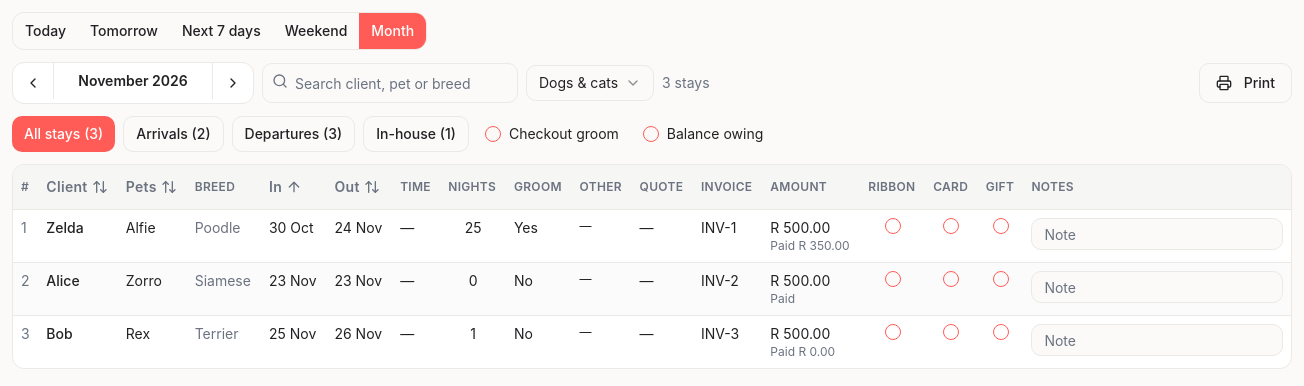
Test: tomorrow includes the earlier-month departure only when checkout is tomorrow
expect the link "Zelda" is shown: met, box [46,219,84,236]
Click the button "Tomorrow" at point(124, 31), box [78,13,170,49]
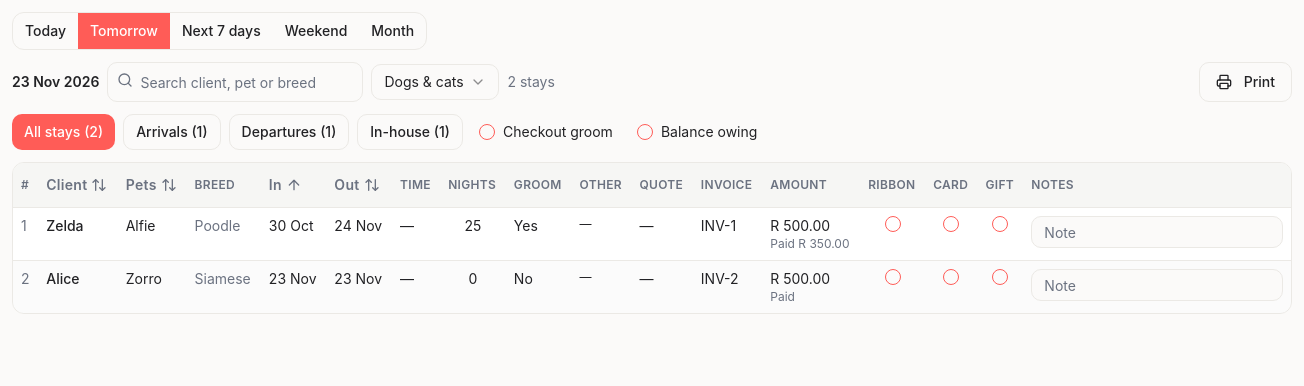
expect the link "Alice" is shown: met, box [46,270,80,287]
Click the button "Departures (1)" at point(289, 132), box [229,114,349,150]
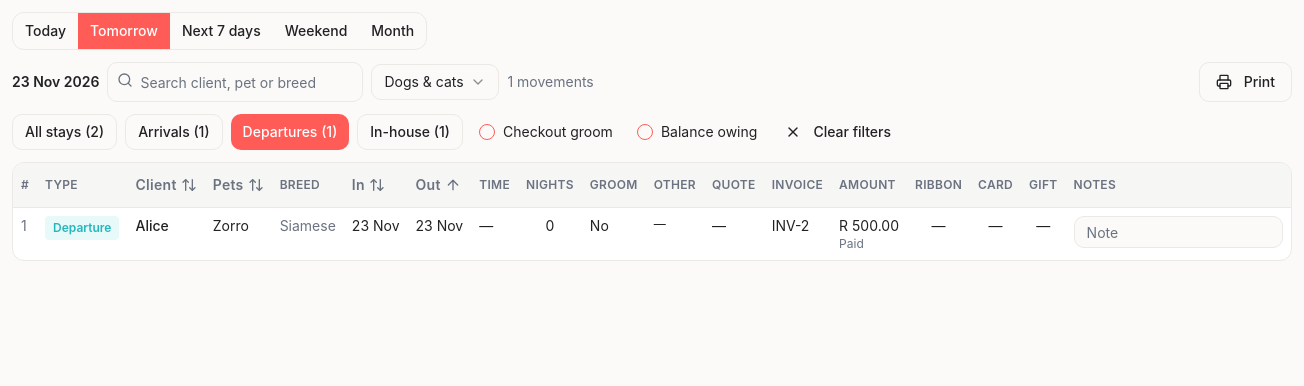
expect the link "Alice" is shown: met, box [136,217,169,234]
expect the link "Zelda" is gone: met
